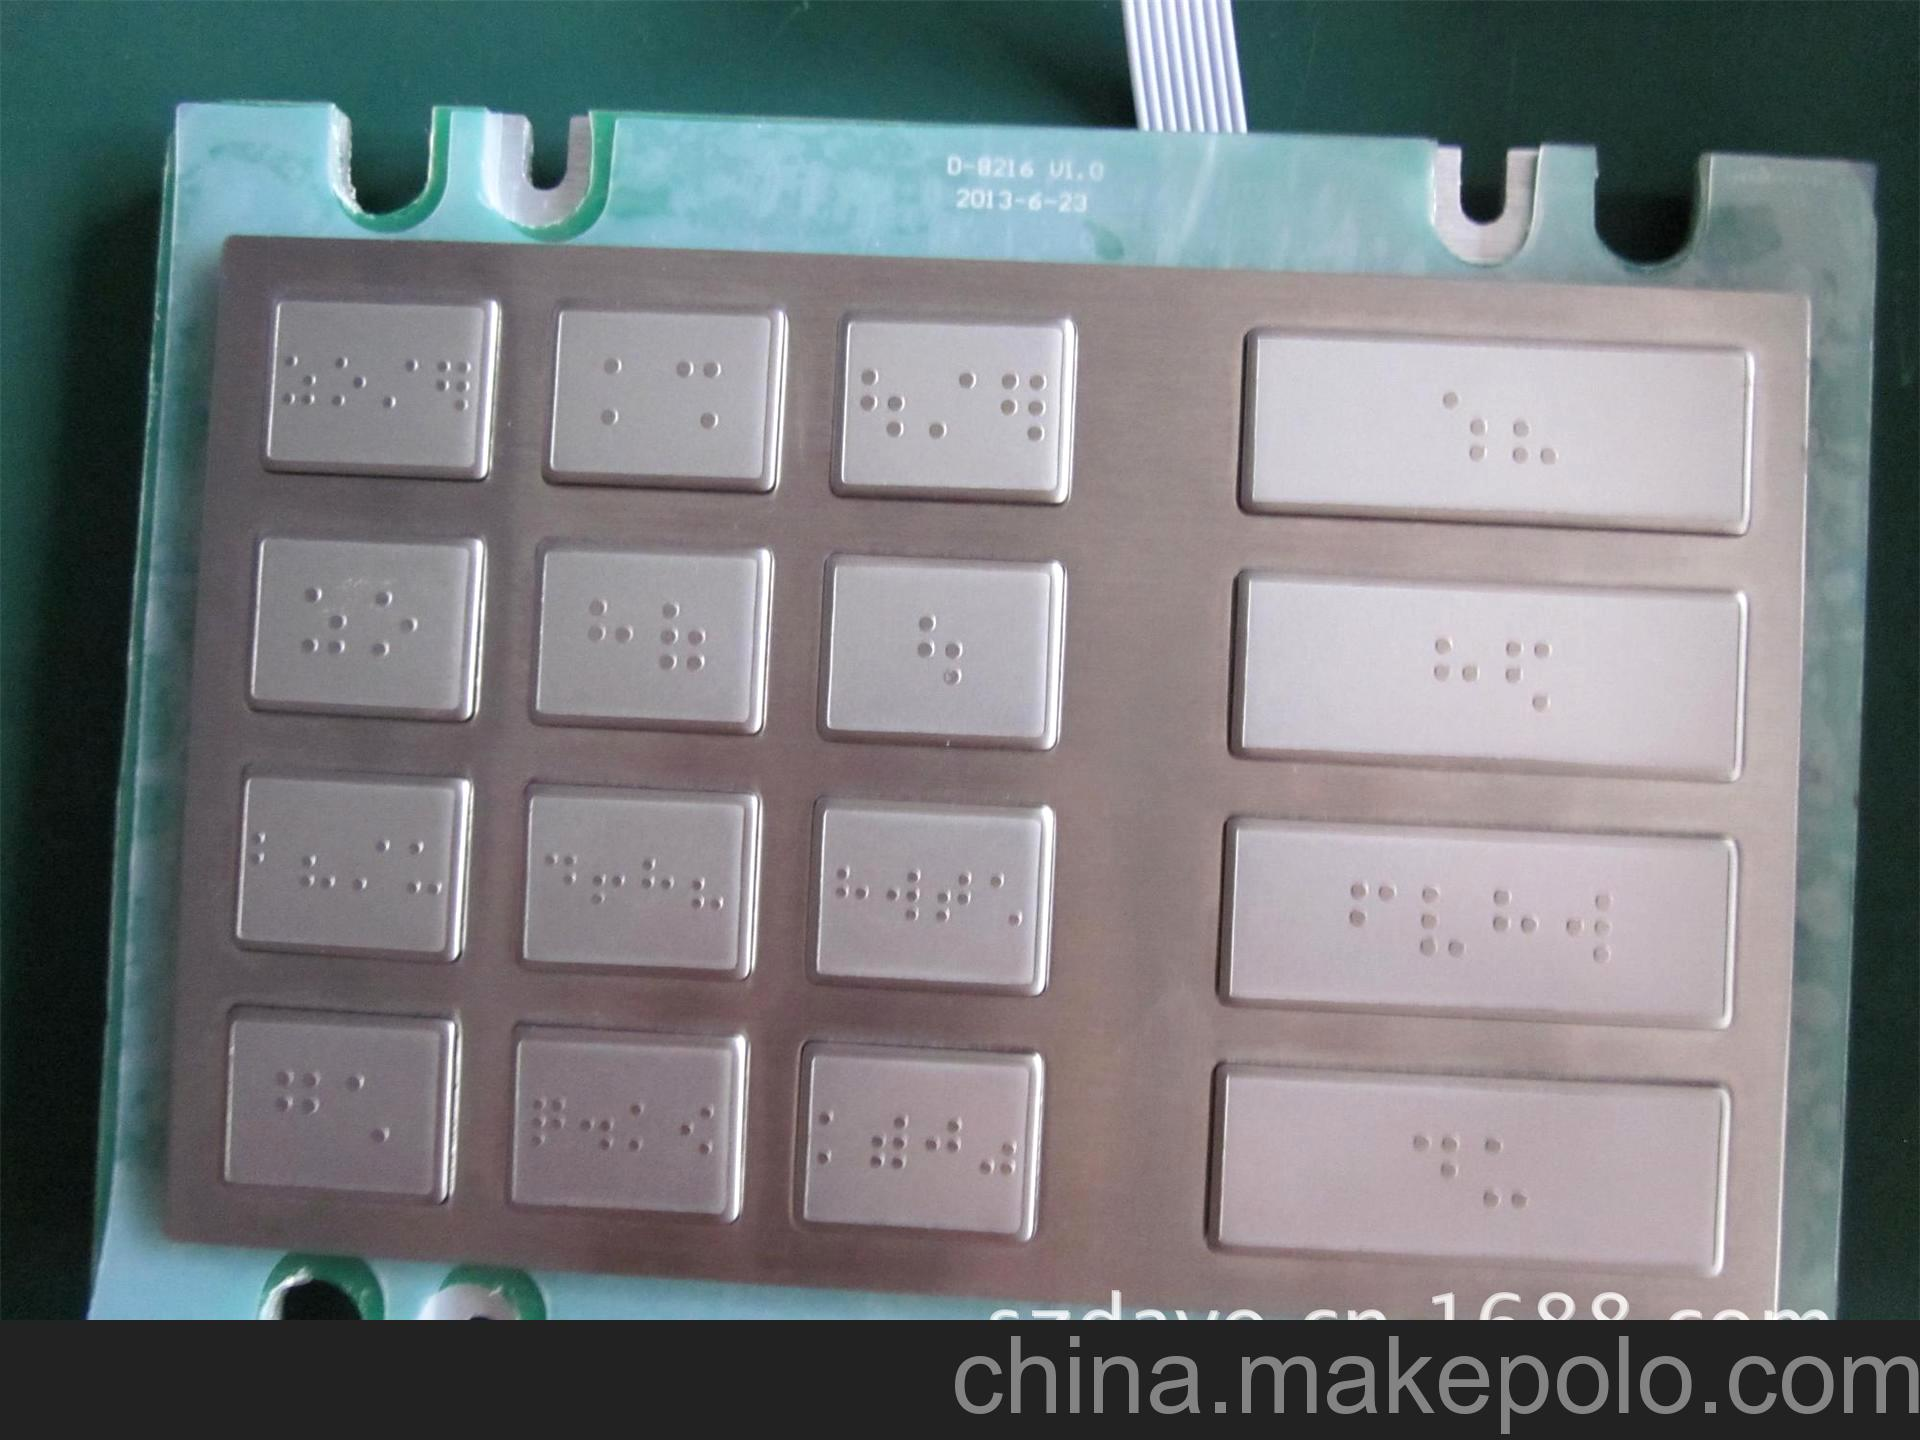Braille: (1427, 632, 1483, 718), (909, 607, 968, 688), (1479, 1131, 1534, 1216), (1417, 880, 1471, 965), (1509, 386, 1565, 467), (996, 363, 1051, 446), (1565, 880, 1616, 968), (585, 588, 633, 681), (1488, 880, 1541, 964), (1414, 1125, 1463, 1212), (856, 362, 907, 445), (1506, 637, 1557, 718), (658, 594, 708, 678), (1438, 386, 1488, 467), (927, 363, 977, 440), (370, 579, 417, 661), (302, 579, 351, 658), (674, 354, 723, 428), (1349, 877, 1398, 947), (599, 351, 643, 428), (278, 1063, 321, 1141), (348, 1068, 390, 1144), (872, 1104, 913, 1177), (679, 1091, 718, 1162), (980, 1116, 1020, 1181), (407, 833, 444, 902), (886, 861, 925, 926), (927, 1107, 965, 1174), (351, 827, 390, 891), (986, 867, 1025, 930), (381, 349, 420, 411), (302, 827, 339, 892), (692, 852, 729, 917), (330, 349, 367, 411), (534, 1089, 568, 1156), (639, 853, 676, 917), (590, 847, 627, 908), (627, 1095, 664, 1156), (544, 844, 578, 909), (836, 861, 869, 926), (816, 1103, 848, 1171), (437, 355, 472, 417), (579, 1094, 614, 1156), (936, 865, 971, 926), (286, 346, 317, 411), (251, 824, 286, 883)
